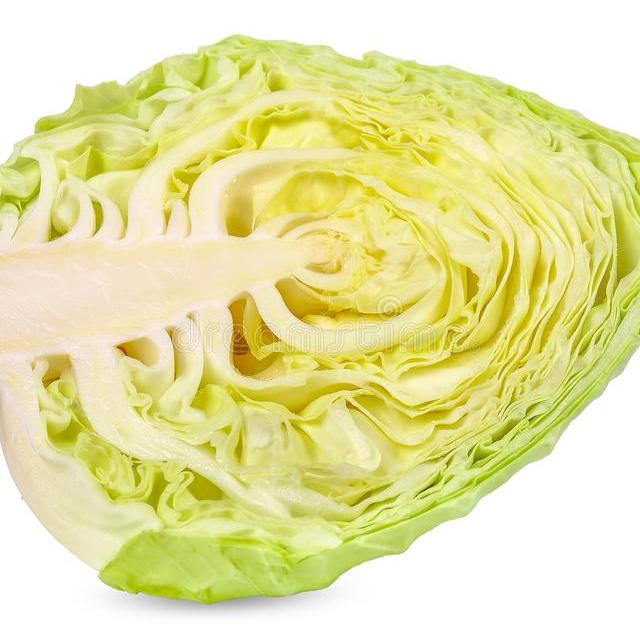cabbage: (0, 35, 640, 608)
